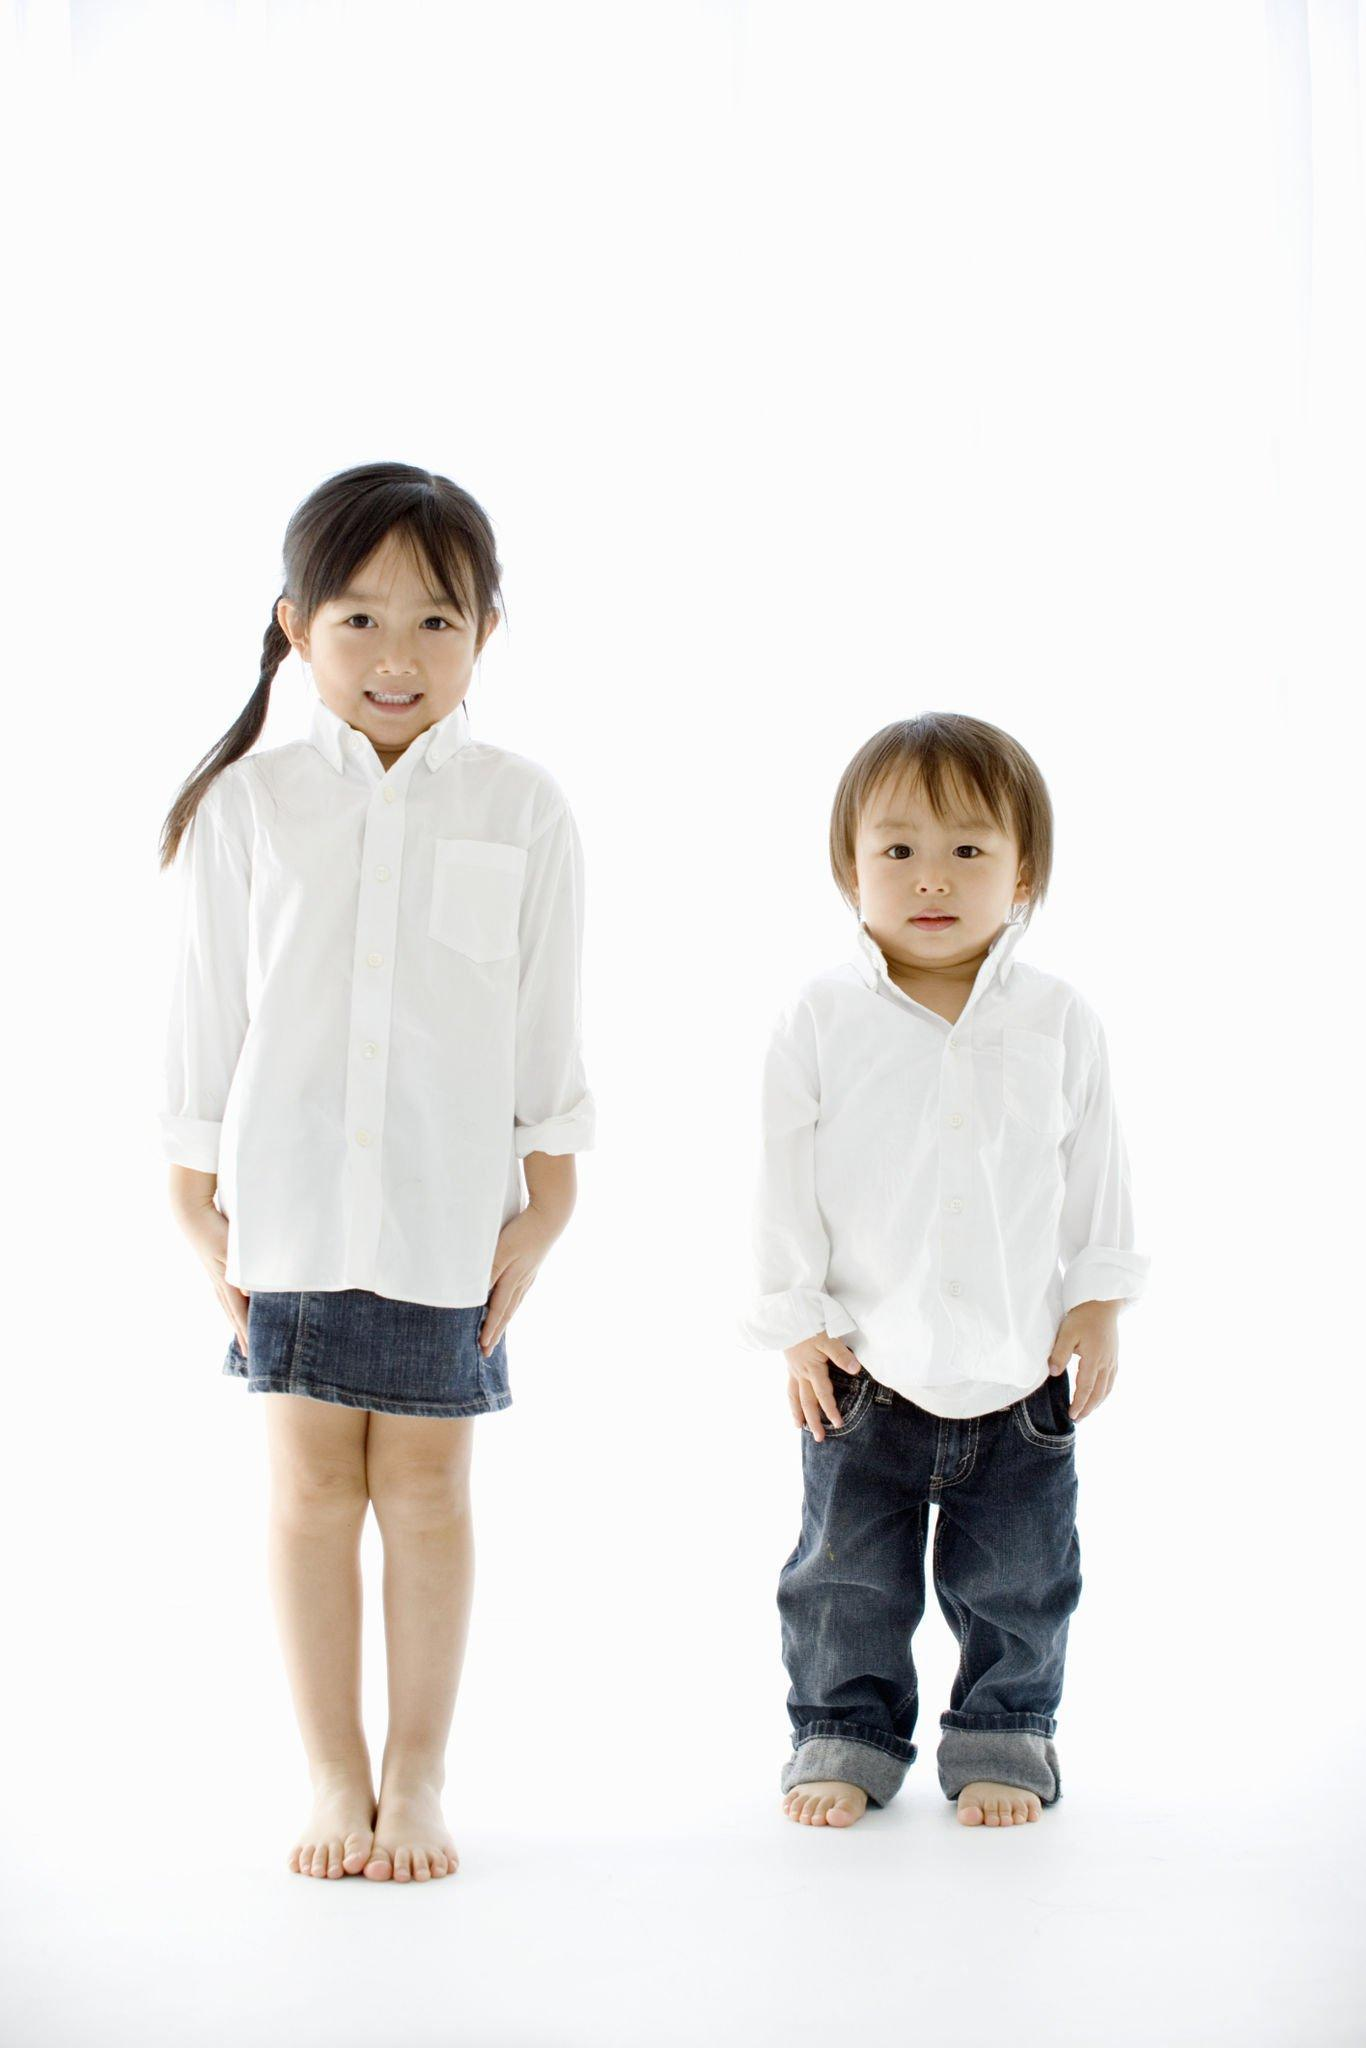Healthy: (267, 521, 512, 753), (846, 742, 1035, 942)
